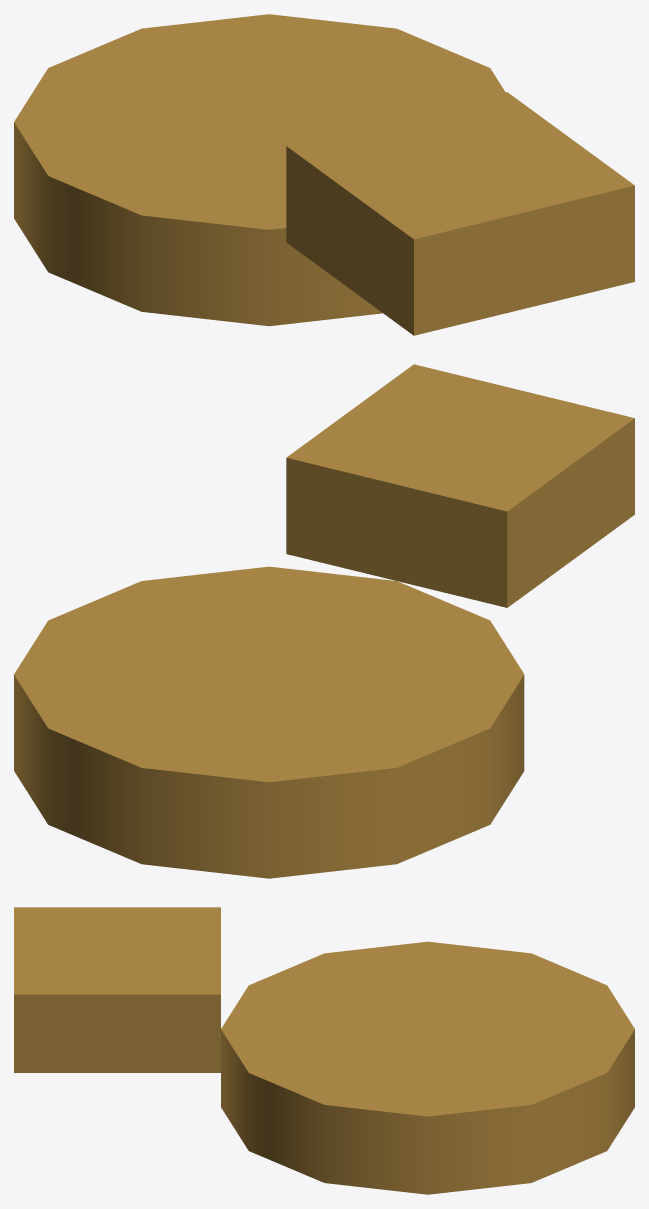
The model's file is jcharge_valve.obj.
The picture shows the model from 3 angles, top to bottom: view 1: azimuth 30°, elevation 25°; view 2: azimuth 150°, elevation 25°; view 3: azimuth 270°, elevation 25°; orthographic projection. The views are drawn at different scales.
Parts seen in each view (by area): view 1: jcharge_valve; view 2: jcharge_valve; view 3: jcharge_valve.
Part boxes in pixels (box(x1,y1,x2,y2)): jcharge_valve: box(14, 14, 634, 335); jcharge_valve: box(14, 364, 634, 878); jcharge_valve: box(14, 907, 634, 1194).
Bounding box in the file's own units: 0.24 × 0.1 × 0.36.
